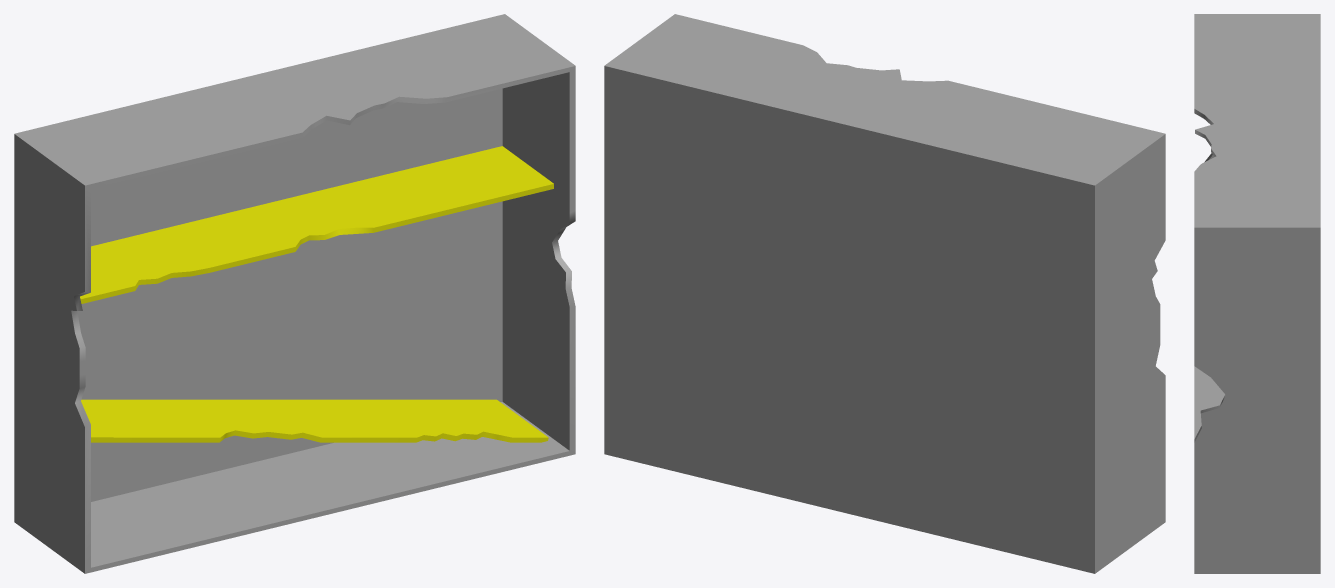
The model's file is EstanteLabA.fbx.
3 renders of one model, left to right at view 1: azimuth 30°, elevation 25°; view 2: azimuth 150°, elevation 25°; view 3: azimuth 270°, elevation 25°, orthographic. The views are drawn at different scales.
Visible parts, largest first — view 1: Estante1; view 2: Estante1; view 3: Estante1.
Part boxes in pixels (<box>): Estante1: <box>14,14,575,573</box>; Estante1: <box>604,14,1165,573</box>; Estante1: <box>1194,14,1320,573</box>.
Size of the model in its own units: 4 by 3.02 by 1.
